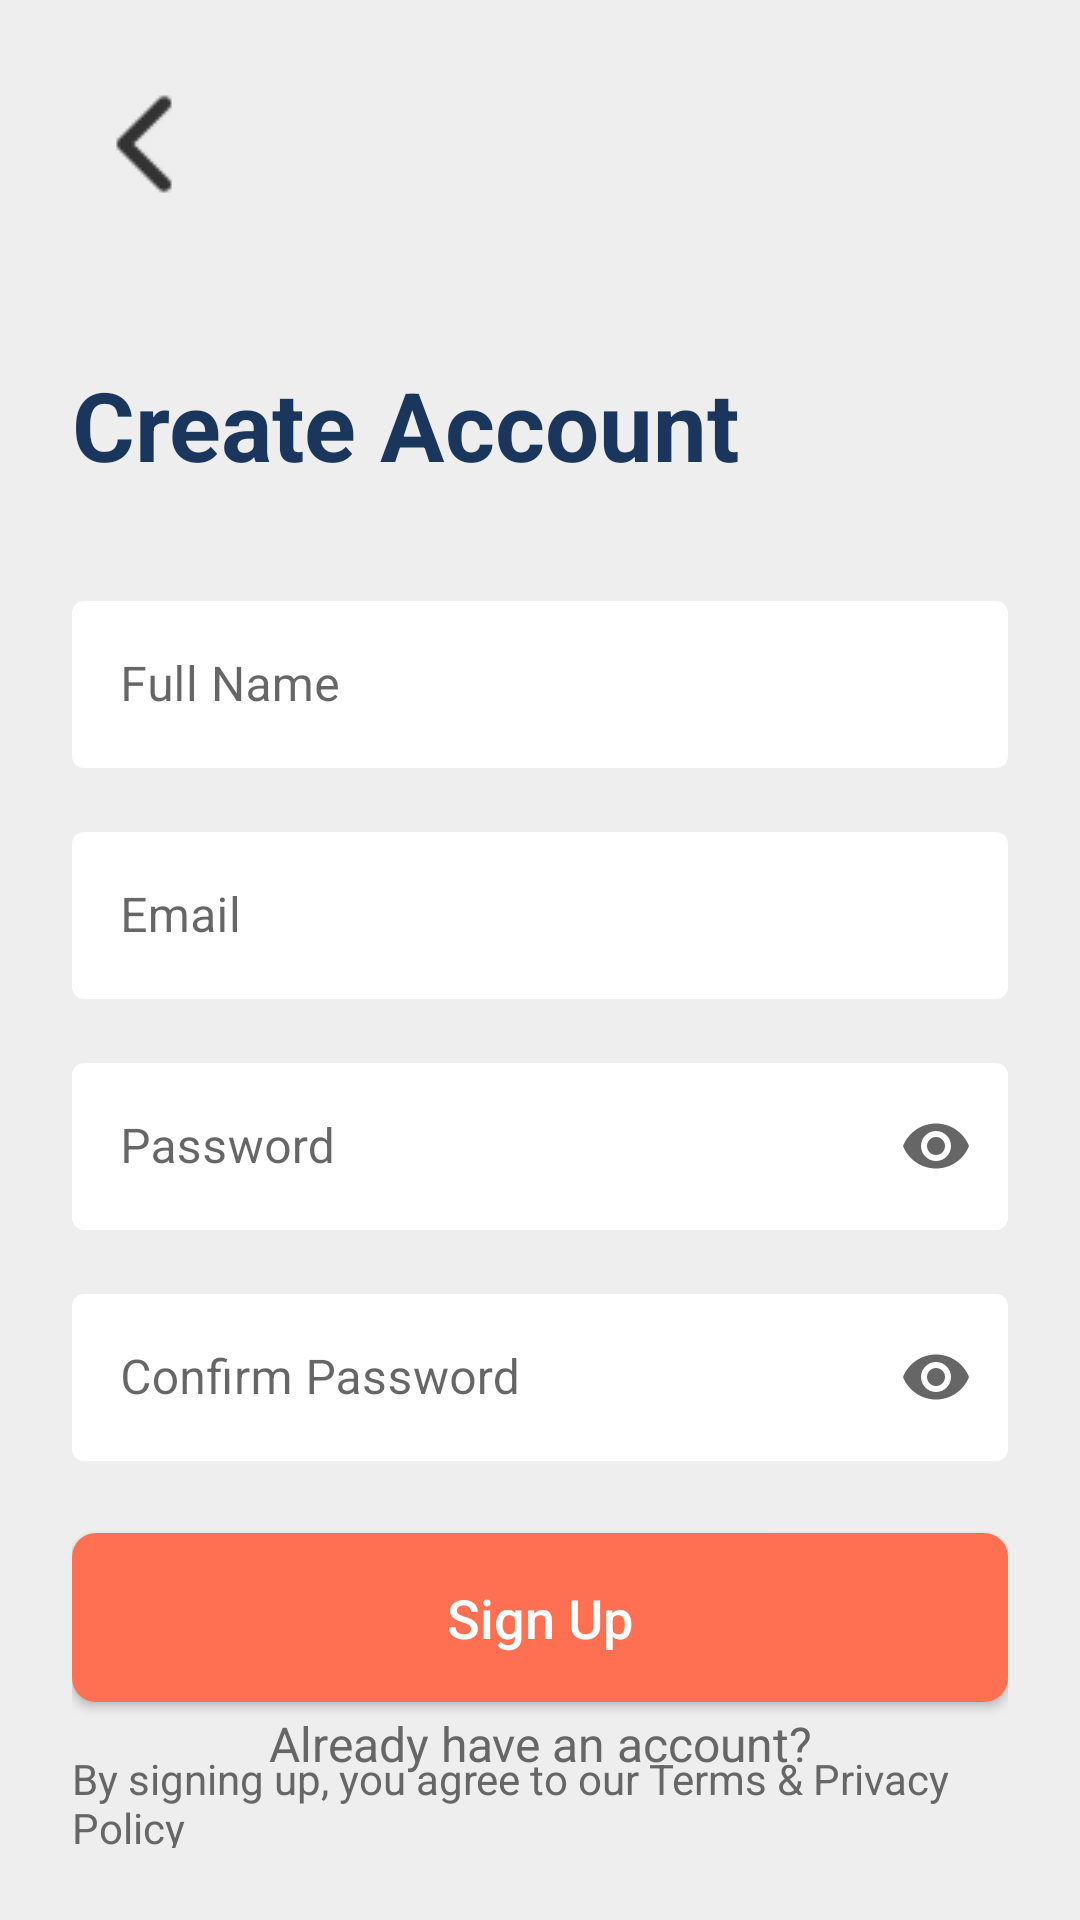

Point at icon controls on the screen. Image size 1080x1920, points as point (x, y).
Back: point (144, 144)
